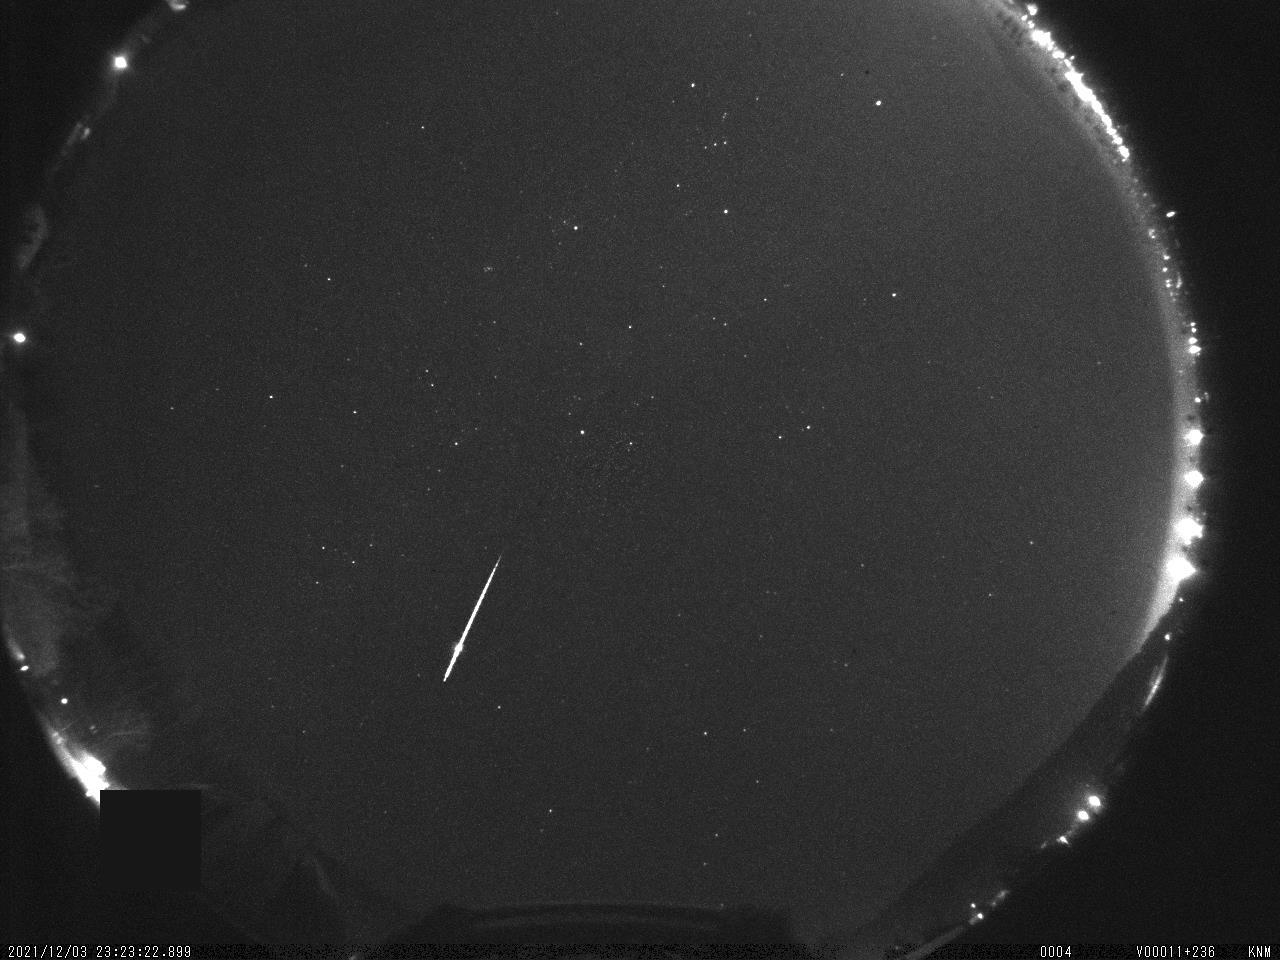meteor: (407, 543, 521, 696)
